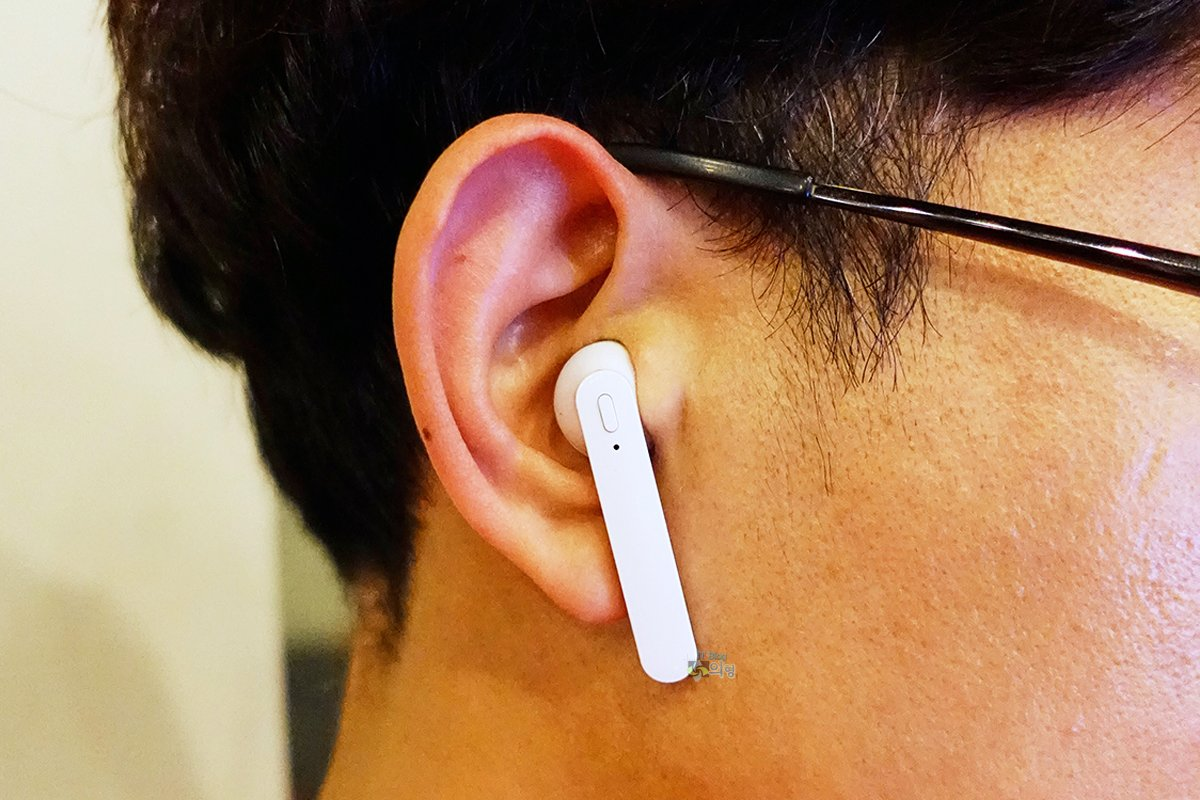earphone: (393, 113, 712, 685)
